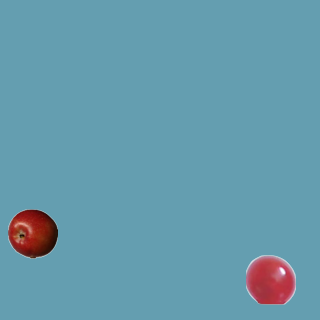Apple Braeburn: (7, 208, 57, 258)
Redcurrant: (245, 254, 295, 304)
